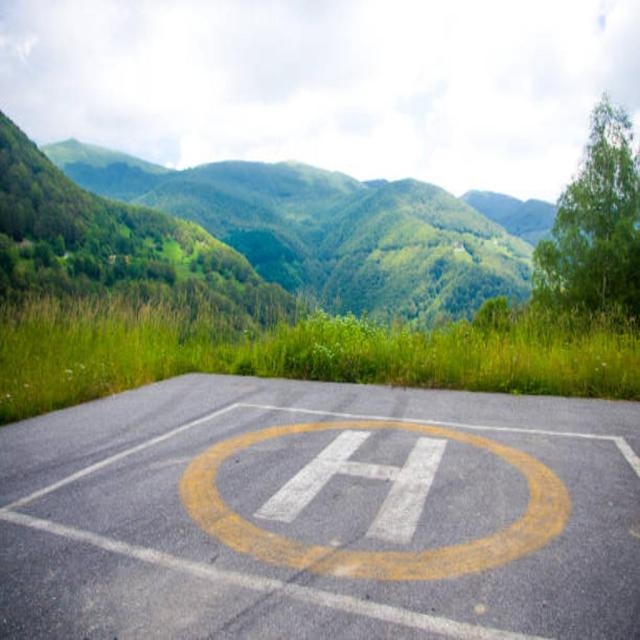helipad: (175, 417, 569, 582)
